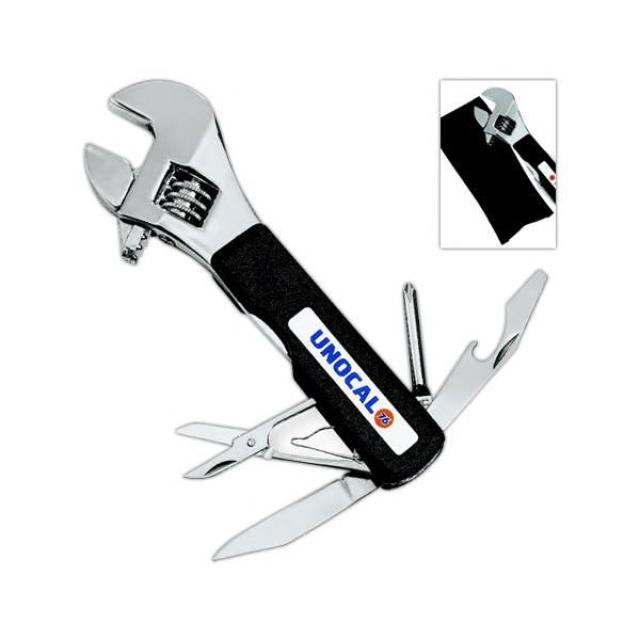wrench: (58, 62, 340, 302)
